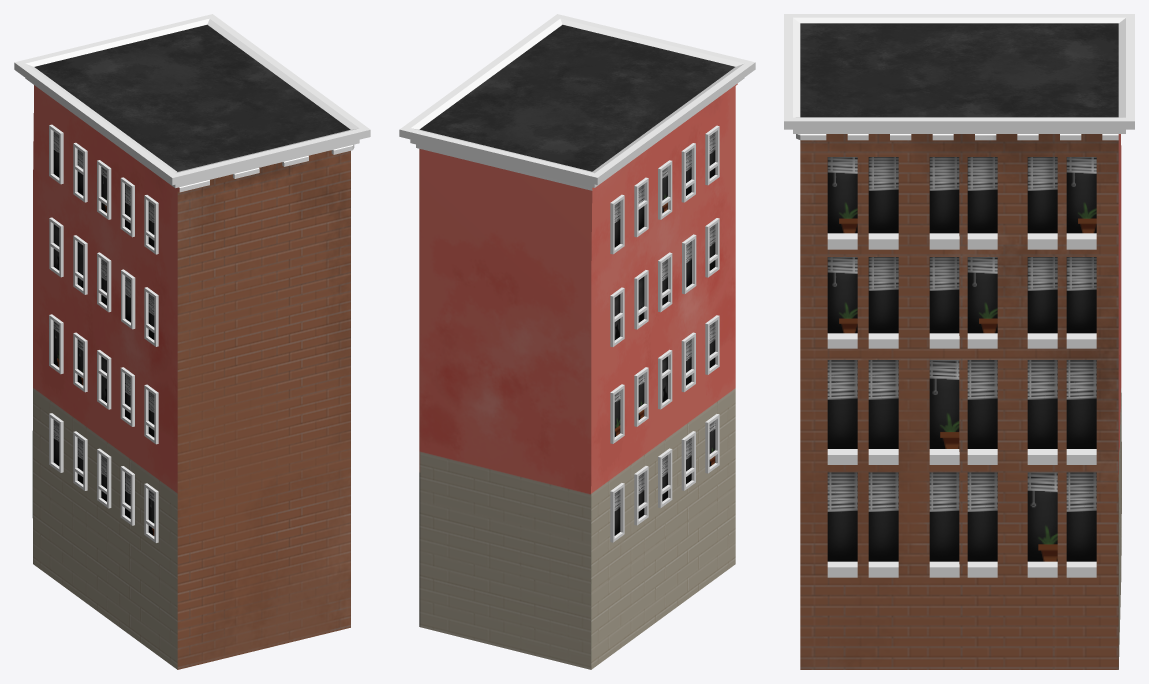
The model's file is House_04.FBX.
3 views of the same model, side by side, from view 1: azimuth 30°, elevation 25°; view 2: azimuth 150°, elevation 25°; view 3: azimuth 270°, elevation 25° (orthographic). The views are drawn at different scales.
Visible parts, largest first — view 1: Box116; view 2: Box116; view 3: Box116.
Boxes of the visible parts, x1,y1,x2,y2 form: Box116: (14, 14, 370, 669); Box116: (399, 14, 755, 669); Box116: (784, 14, 1134, 669).
Bounding box in the file's own units: 164 × 396 × 227.
